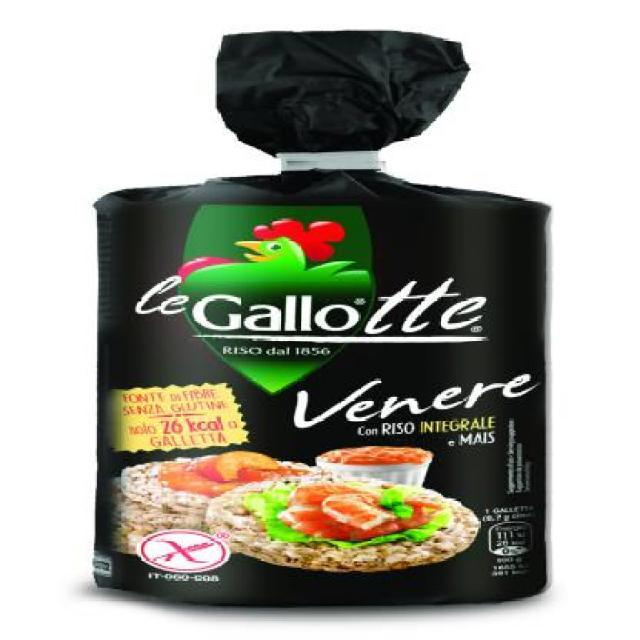Gallette di riso: (73, 45, 570, 612)
